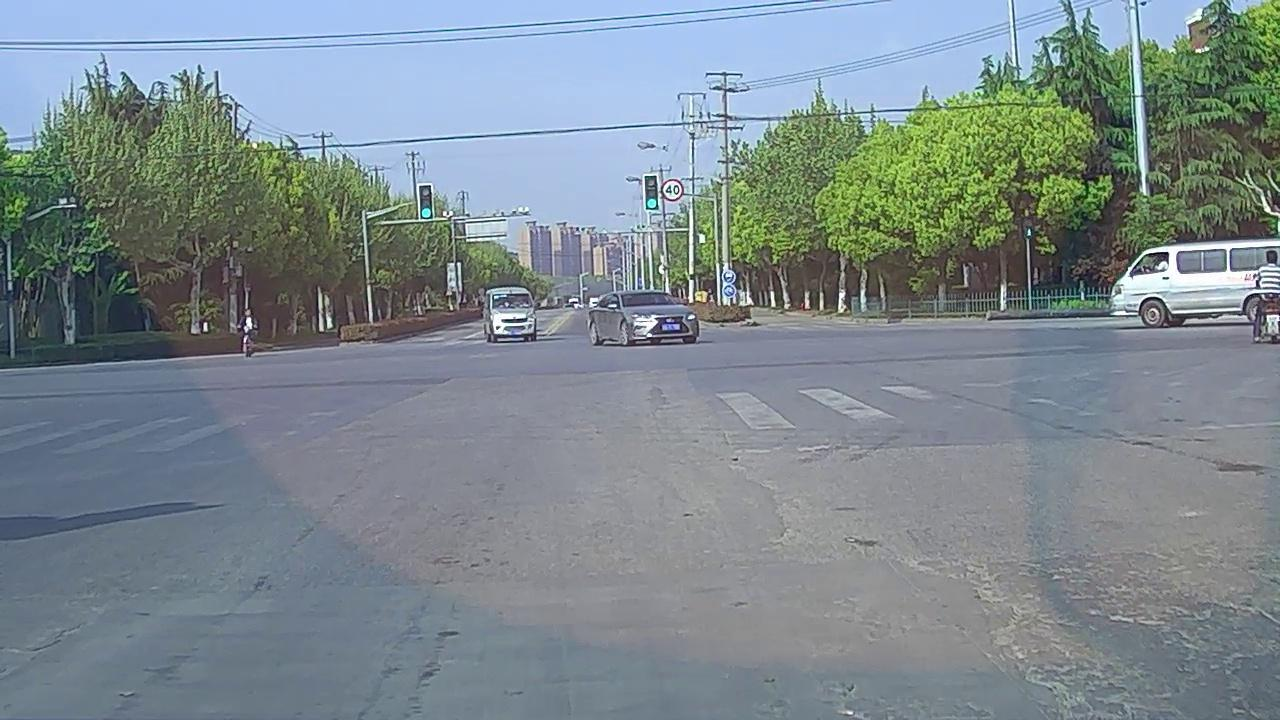traffic_light: (644, 175, 658, 211), (419, 186, 434, 219)
